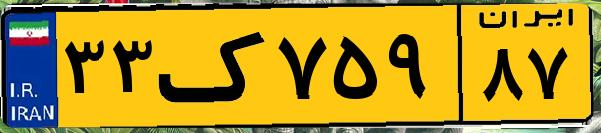3: (57, 26, 110, 100), (110, 28, 158, 98)
5: (330, 28, 385, 110)
7: (270, 28, 330, 110), (525, 38, 570, 115)
8: (475, 38, 525, 113)
9: (385, 28, 445, 110)
ک: (158, 12, 270, 120)
